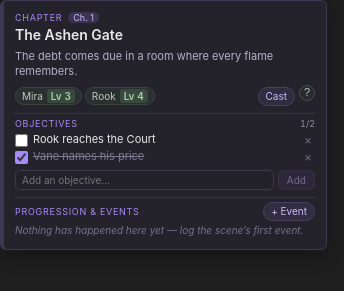
Test: GraphNode chapter workbench › will not log an event without its detail line
Click the button "+ Event" at [289, 211], box 263,202 -> 315,221
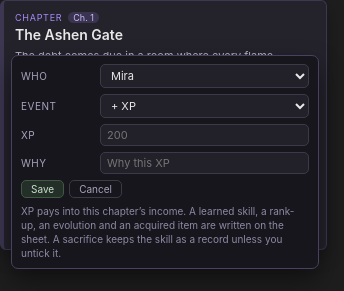
Select "Learn Skill" in the dropdown named "Event type in The Ashen Gate" at [204, 106], box 100,94 -> 309,118
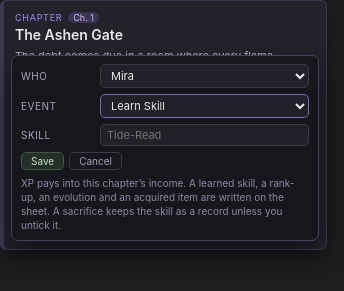
Click the button "Save" at [43, 161], box 21,152 -> 64,170
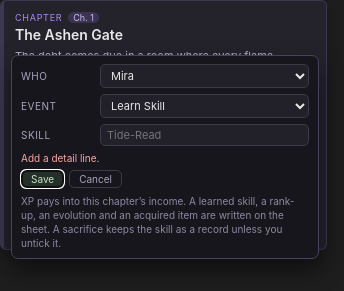
Check: the message reads "Add a detail line.", box 21,152 -> 99,164
